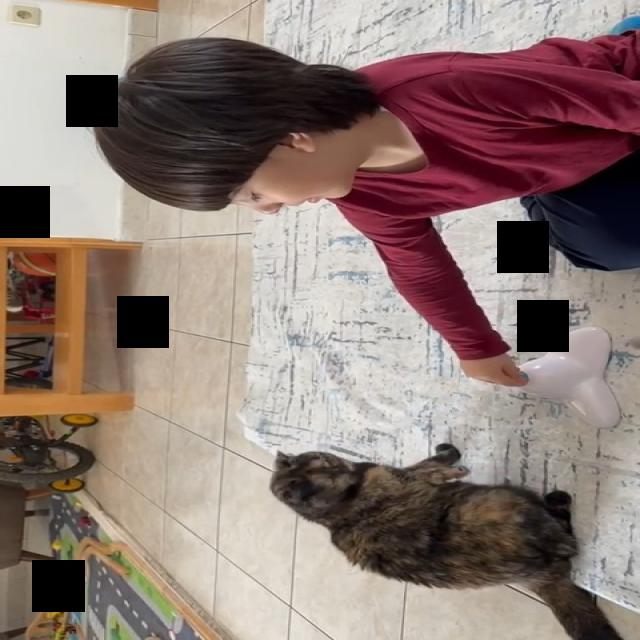authorized: (267, 442, 625, 640)
